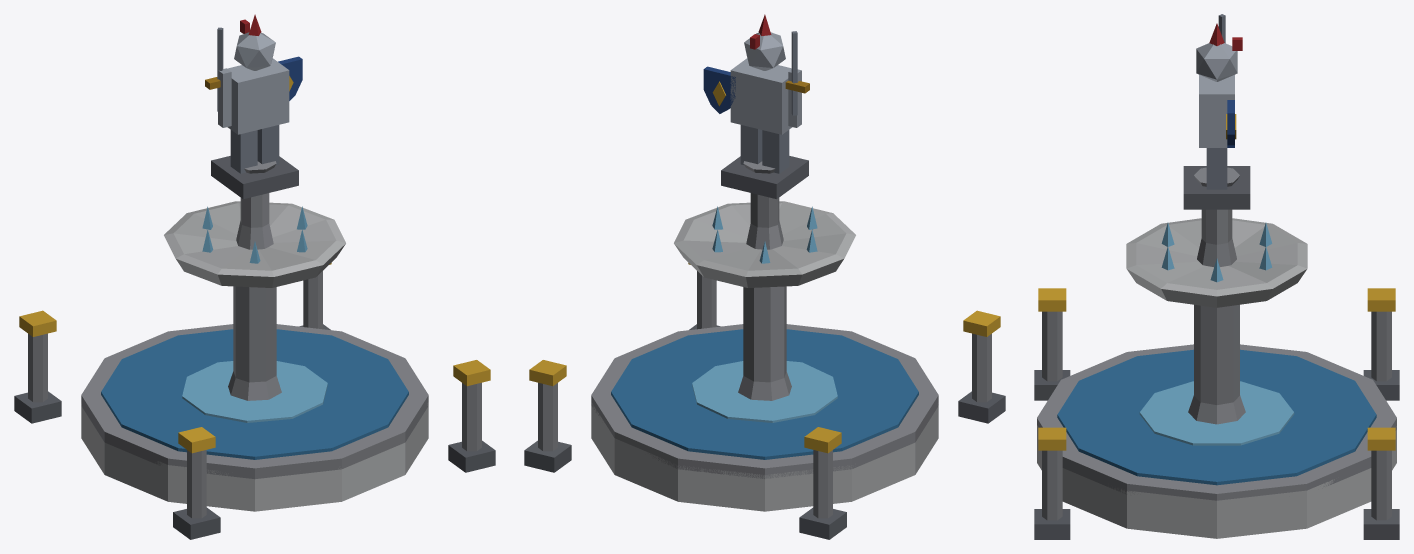
File: Decor_KnightCastle_Fountain.fbx
3 renders of one model, left to right at view 1: azimuth 30°, elevation 25°; view 2: azimuth 150°, elevation 25°; view 3: azimuth 270°, elevation 25°, orthographic. The views are drawn at different scales.
Parts seen in each view (by area): view 1: Fountain_Body; view 2: Fountain_Body; view 3: Fountain_Body.
Boxes of the visible parts, x1,y1,x2,y2 form: Fountain_Body: (14, 14, 495, 539); Fountain_Body: (524, 14, 1005, 539); Fountain_Body: (1034, 14, 1399, 539).
Size of the model in its own units: 14 by 18.6 by 14.
